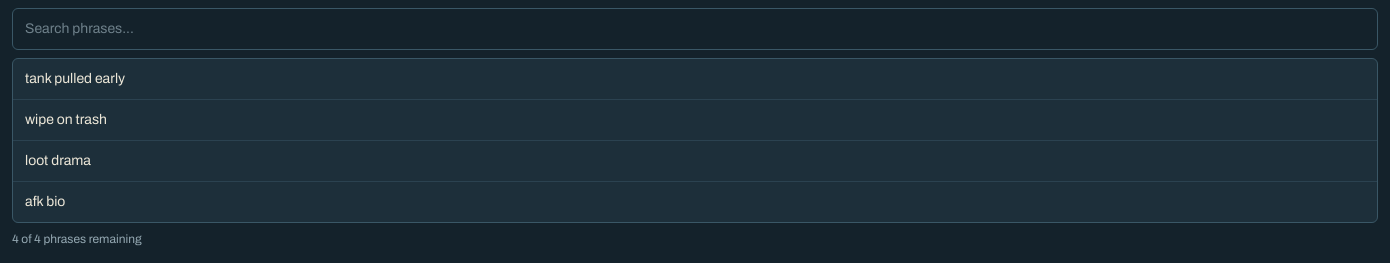
PhraseCallList › filters phrases by search input
The width and height of the screenshot is (1390, 263).
Type "tank" into the field with placeholder "Search phrases..." at (695, 29), box [12,8,1378,50]
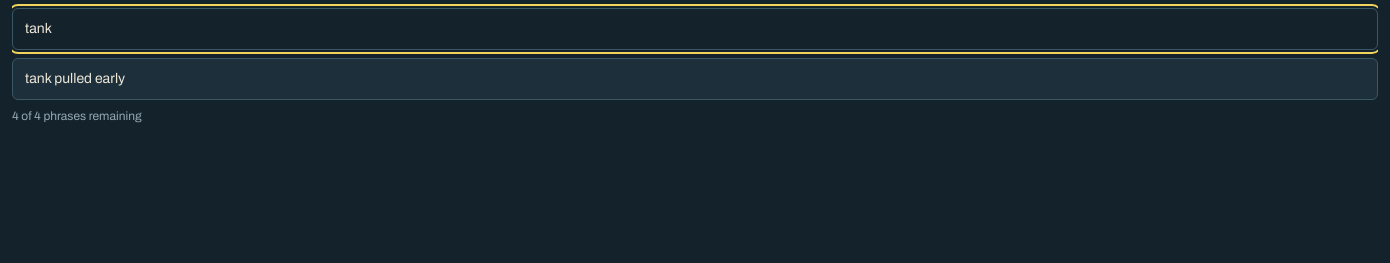
Expected: the button "tank pulled early" is shown, [13,59,1377,99]
Now the button "loot drama" is gone
